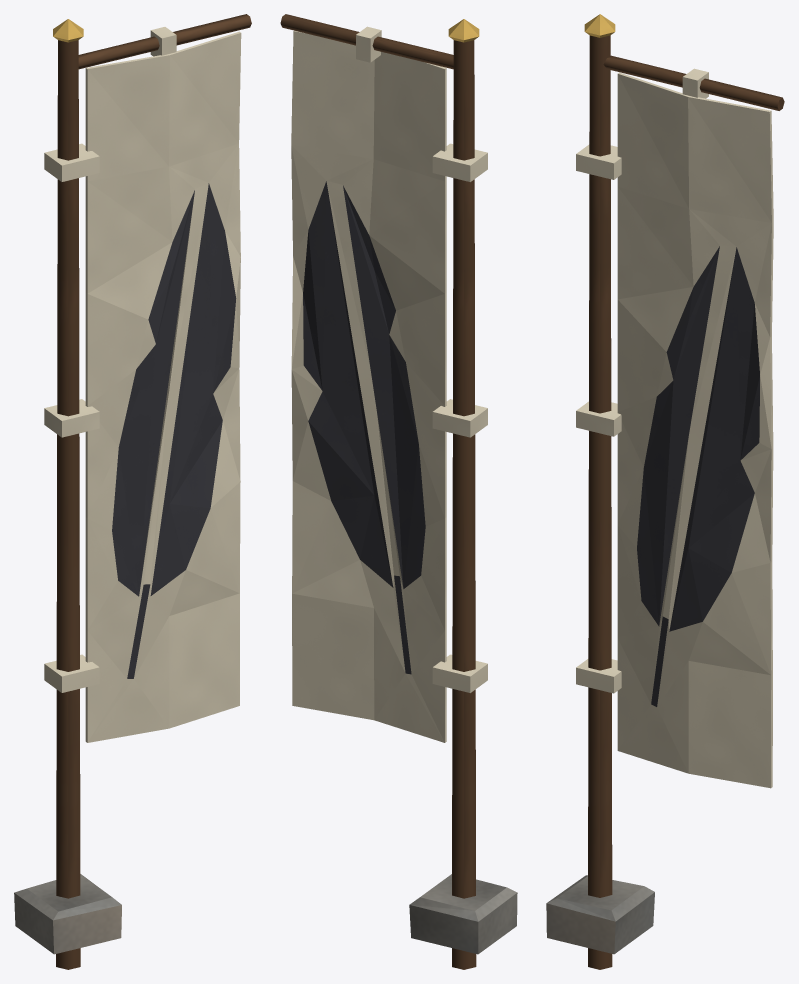
The model's file is tengu_banner.fbx.
The picture shows the model from 3 angles, left to right: view 1: azimuth 30°, elevation 25°; view 2: azimuth 150°, elevation 25°; view 3: azimuth 330°, elevation 25°; orthographic projection.
Parts seen in each view (by area): view 1: tengu_banner_Cloth, tengu_banner_Pole; view 2: tengu_banner_Cloth, tengu_banner_Pole; view 3: tengu_banner_Cloth, tengu_banner_Pole.
Boxes of the visible parts, x1,y1,x2,y2 form: tengu_banner_Cloth: (85,31,241,742); tengu_banner_Pole: (14,14,251,969); tengu_banner_Cloth: (291,30,446,742); tengu_banner_Pole: (280,14,517,969); tengu_banner_Cloth: (617,72,773,788); tengu_banner_Pole: (546,14,784,969).
Size of the model in its own units: 3.51 by 14.8 by 1.12.
1 material, 1 textured.
